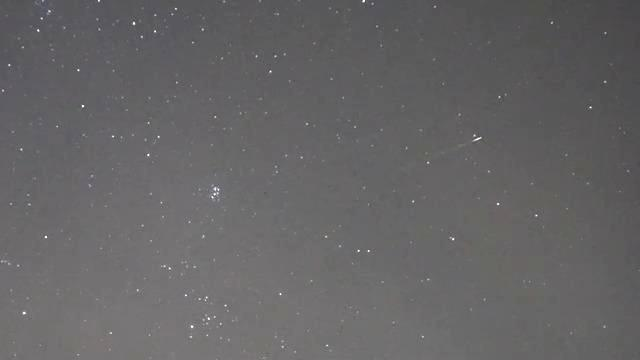meteorite: (444, 132, 501, 147)
